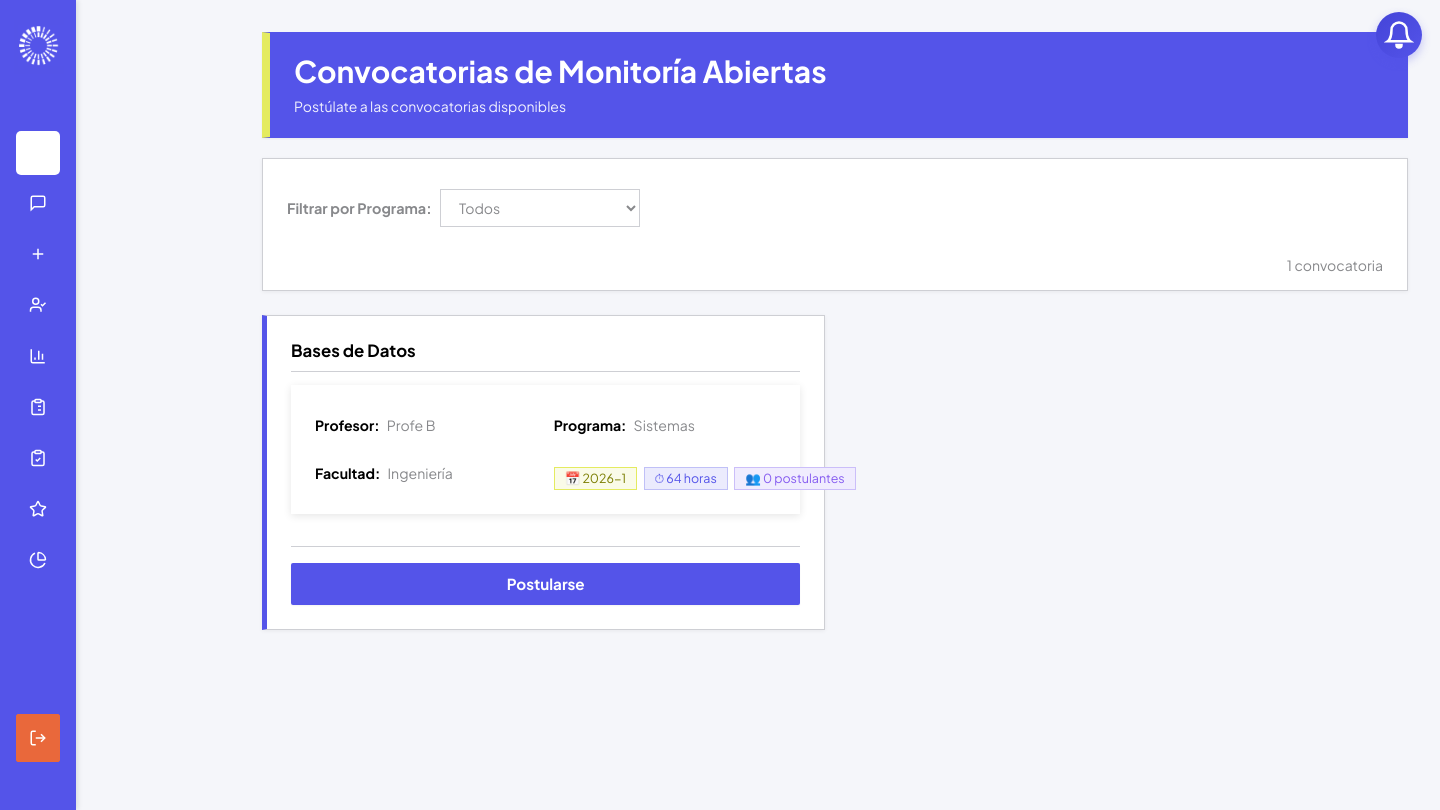
Scenario: ConvocatoriasSimonSimple › VerConvocatorias bloquea postulación para rol no permitido
Click the button "Postularse".
click(546, 584)  # box 291,563 -> 800,605
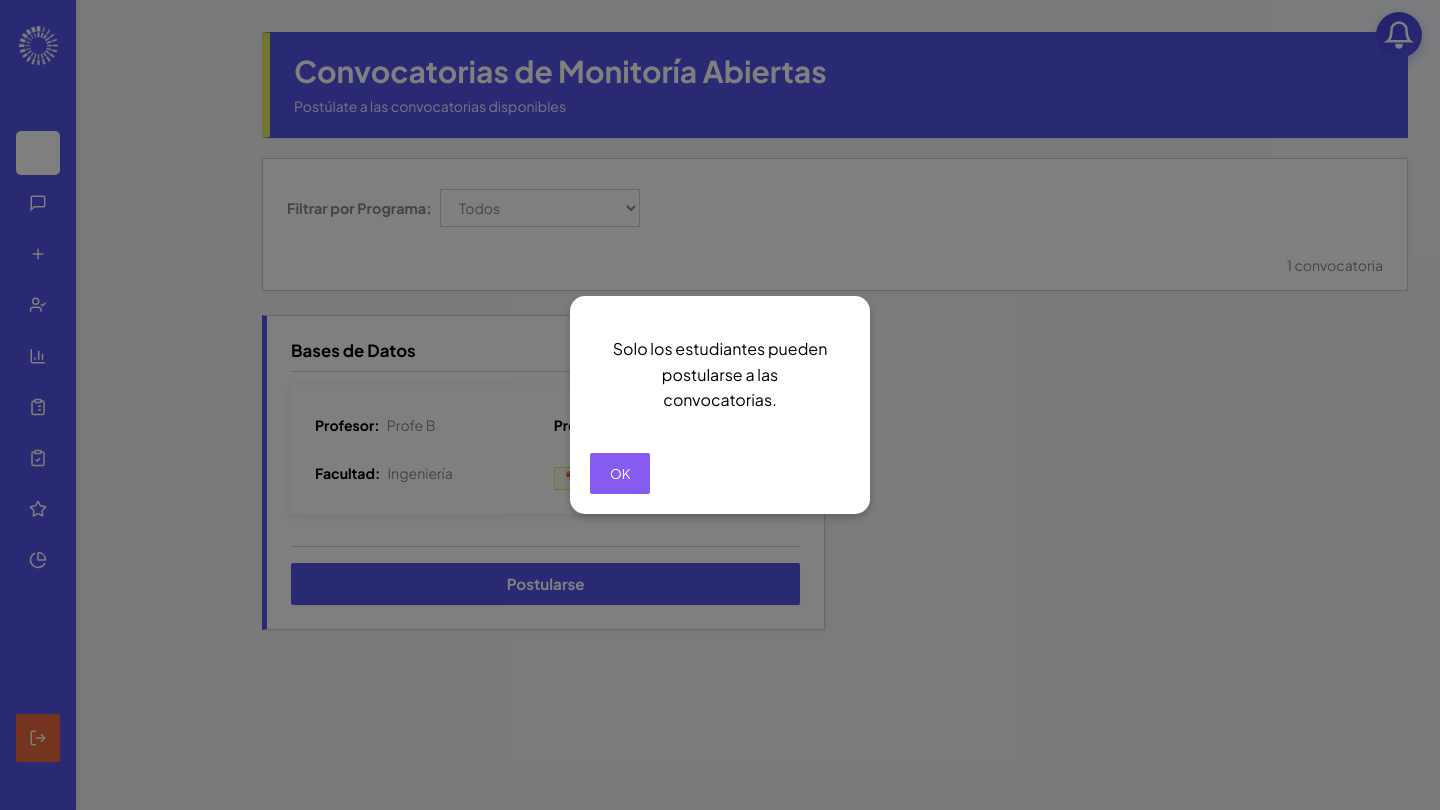
Expected: the text "Solo los estudiantes pueden postularse a las convocatorias." is shown, 613,338 -> 827,410
